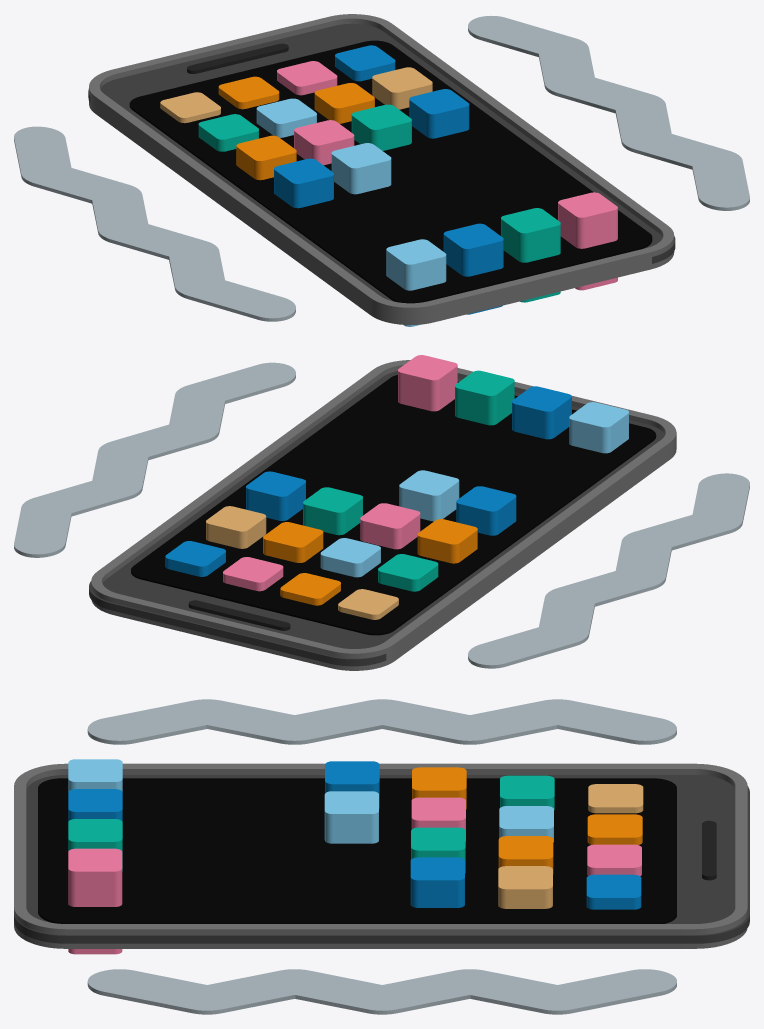
Rendered from emoji_u1f4f3.glb.
The picture shows the model from 3 angles, top to bottom: view 1: azimuth 30°, elevation 25°; view 2: azimuth 150°, elevation 25°; view 3: azimuth 270°, elevation 25°; orthographic projection. The views are drawn at different scales.
Visible parts, largest first — view 1: emoji_u1f4f3; view 2: emoji_u1f4f3; view 3: emoji_u1f4f3.
Boxes of the visible parts, box(x1,y1,x2,y2) form: emoji_u1f4f3: box(14, 14, 749, 326); emoji_u1f4f3: box(14, 355, 749, 670); emoji_u1f4f3: box(14, 699, 749, 1014).
Size of the model in its own units: 0.0339 by 0.0042 by 0.0338.
